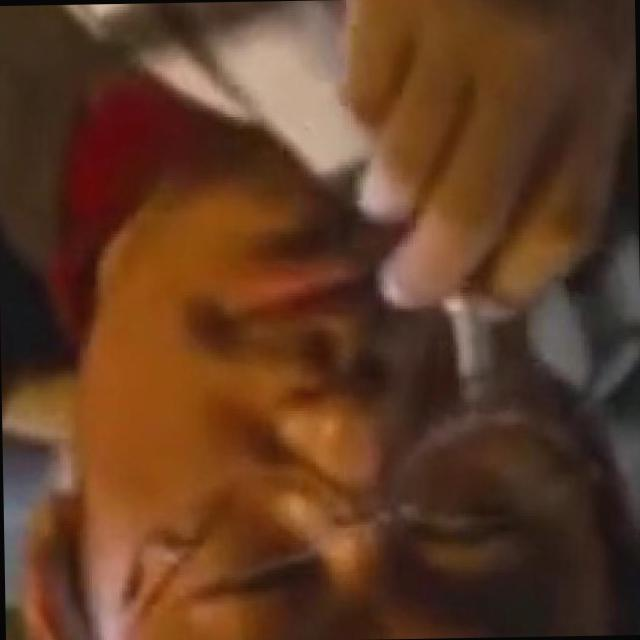cigarette: (440, 292, 498, 423)
